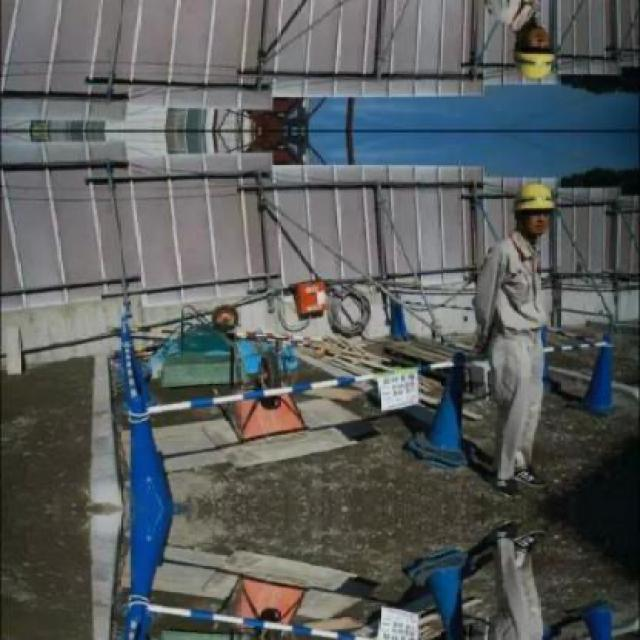helmet: (509, 176, 562, 240), (509, 22, 562, 86)
